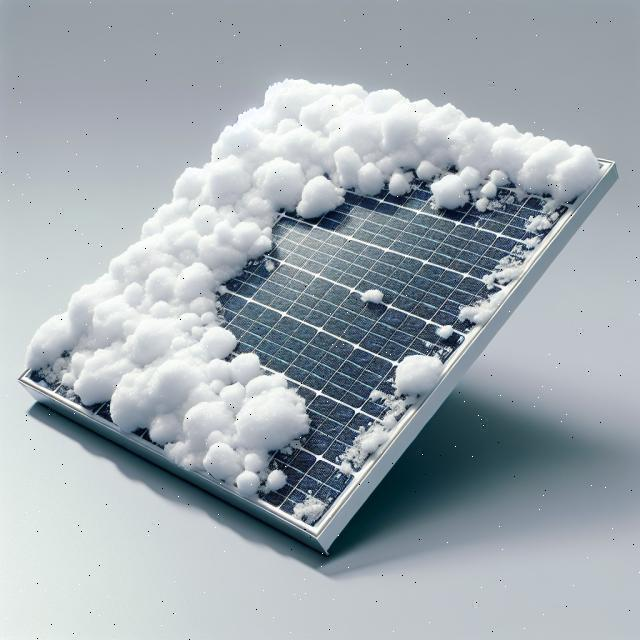Anomaly Solar Panel: (18, 0, 607, 581)
Snow: (9, 0, 619, 577), (316, 336, 445, 486), (288, 486, 330, 525), (423, 314, 458, 350), (354, 278, 387, 311)
